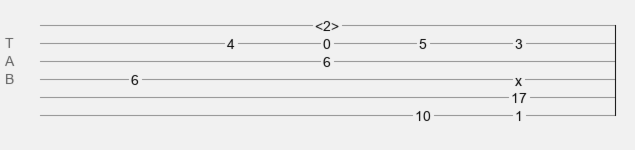0: (323, 36, 331, 46)
1: (515, 108, 523, 118)
10: (415, 108, 431, 118)
17: (511, 90, 527, 100)
3: (515, 36, 523, 46)
4: (227, 36, 235, 46)
5: (419, 36, 427, 46)
6: (131, 72, 139, 82), (323, 54, 331, 64)
harmonic: (315, 18, 339, 28)
x: (515, 73, 522, 81)
